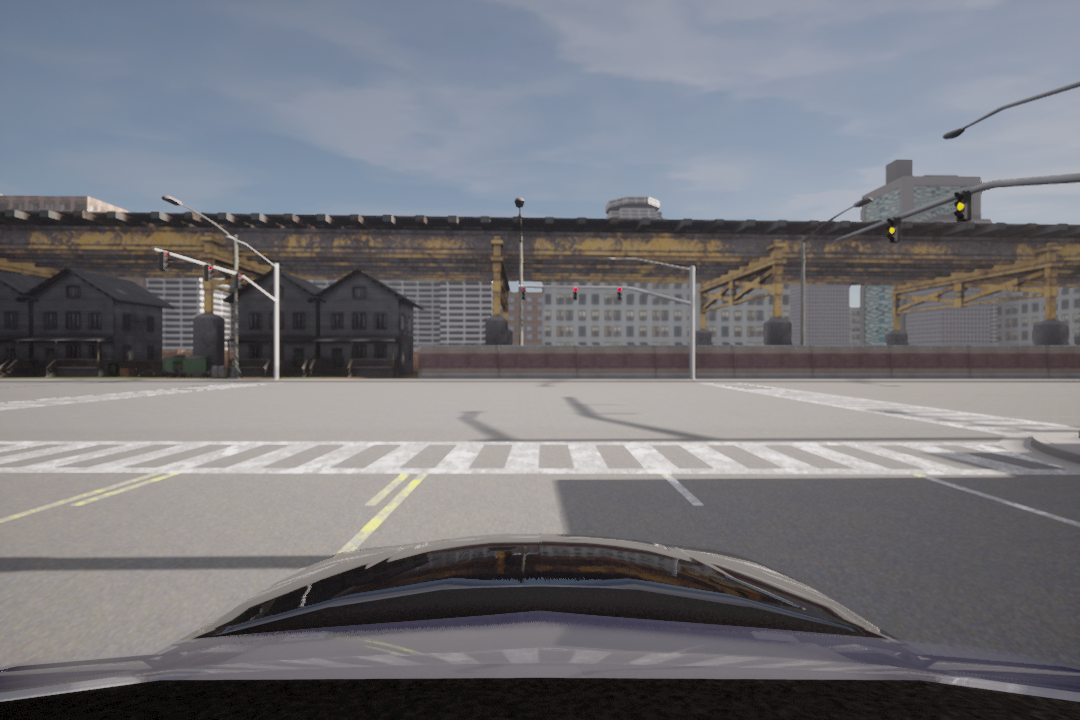TrafficLight: (953, 190, 971, 224), (884, 217, 901, 244), (201, 264, 214, 283), (158, 249, 167, 271), (570, 284, 579, 302), (234, 272, 243, 290), (520, 285, 527, 301), (616, 286, 622, 301)
walkside: (2, 434, 1078, 481)
